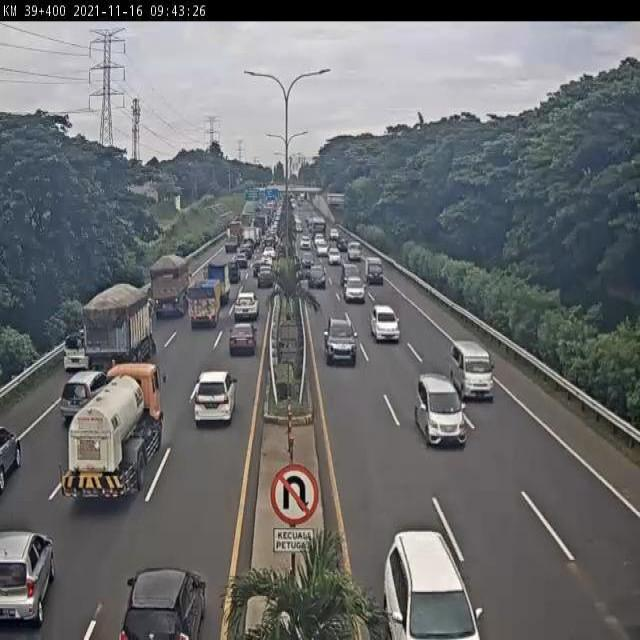car: (384, 520, 489, 640), (114, 557, 230, 640), (0, 524, 68, 629), (409, 371, 470, 458), (444, 331, 507, 409), (191, 366, 241, 438), (58, 366, 111, 430), (0, 417, 32, 507), (321, 312, 363, 375), (367, 298, 412, 350), (61, 328, 94, 373), (226, 320, 262, 361), (228, 290, 270, 322), (254, 258, 279, 290), (305, 262, 332, 290), (342, 275, 366, 304), (339, 260, 362, 287)
small truck: (186, 278, 223, 334), (205, 257, 235, 307), (361, 256, 387, 285)
truck-m-: (58, 358, 178, 514), (81, 280, 156, 380), (143, 252, 196, 320)
